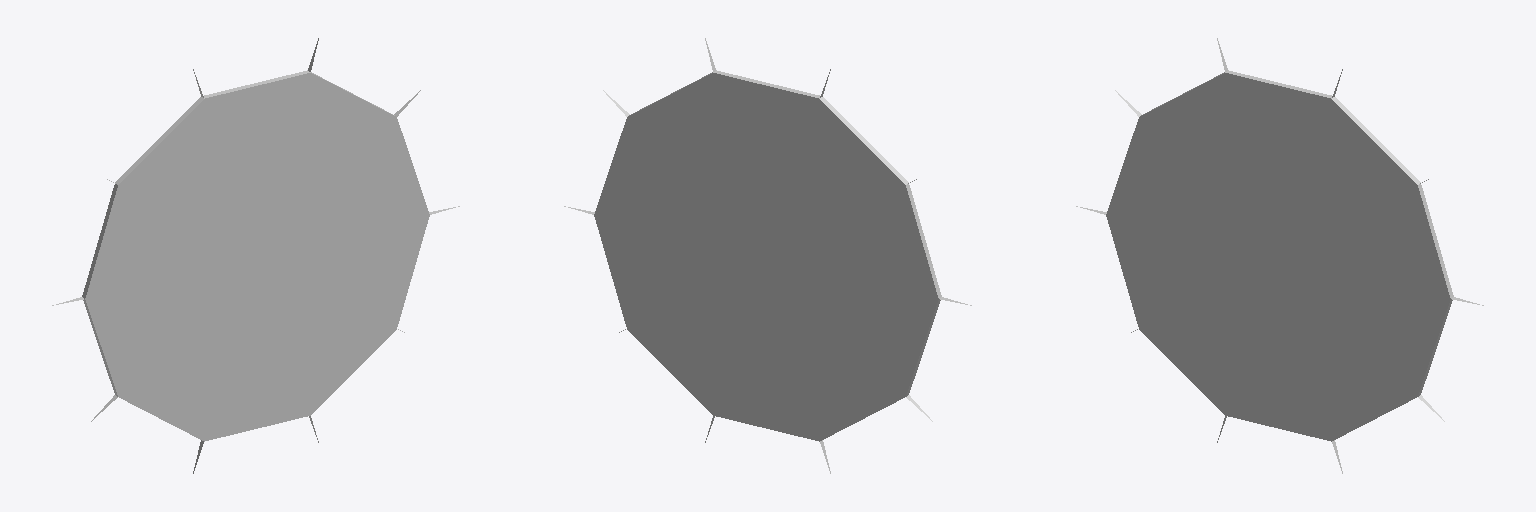
3 renders of one model, left to right at view 1: azimuth 30°, elevation 25°; view 2: azimuth 150°, elevation 25°; view 3: azimuth 330°, elevation 25°, orthographic.
Visible parts, largest first — view 1: pCylinder2; view 2: pCylinder2; view 3: pCylinder2.
Part boxes in pixels (x1,y1,x2,y2): pCylinder2: (52,38,459,473); pCylinder2: (564,38,971,473); pCylinder2: (1076,38,1483,473).
Bounding box in the file's own units: 1.02 × 0.9679 × 0.014.
Materials: 1 (1 with a texture image).